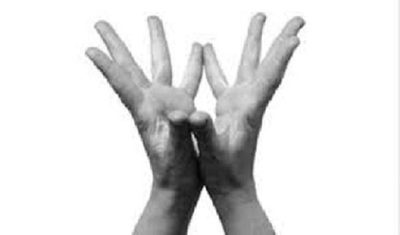mindinho: (197, 40, 232, 103), (183, 36, 209, 98)
